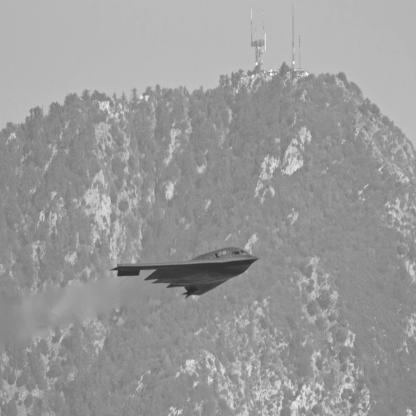B2: (110, 248, 260, 301)
